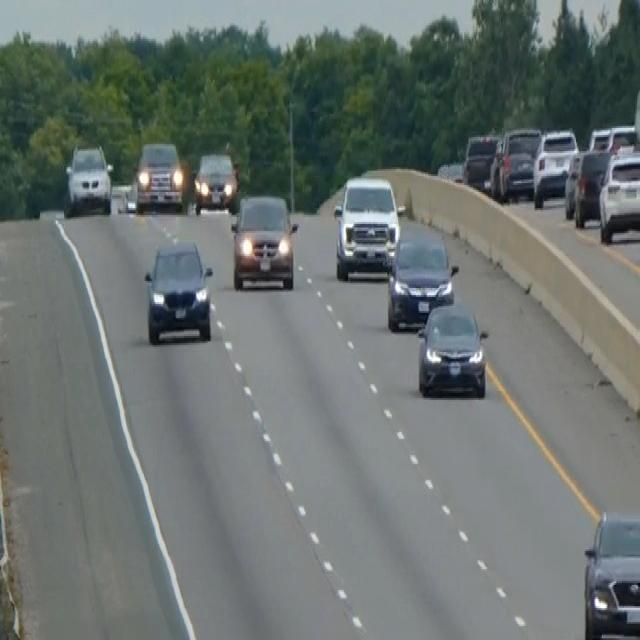car: (385, 217, 457, 331), (582, 507, 639, 638), (416, 299, 488, 398), (597, 148, 639, 244), (490, 124, 541, 201), (532, 126, 578, 208), (63, 141, 113, 215), (573, 146, 611, 226), (193, 150, 238, 213), (461, 130, 499, 190), (563, 147, 582, 217), (588, 124, 612, 153)
jeep: (141, 233, 215, 347), (332, 172, 402, 281), (134, 138, 186, 212)
minivan: (229, 192, 299, 292)
